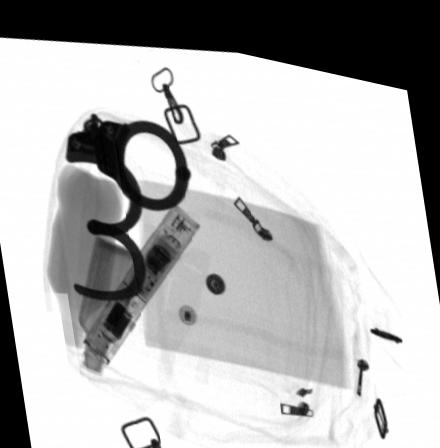Baton: (81, 192, 203, 360)
HandCuffs: (65, 106, 192, 296)
